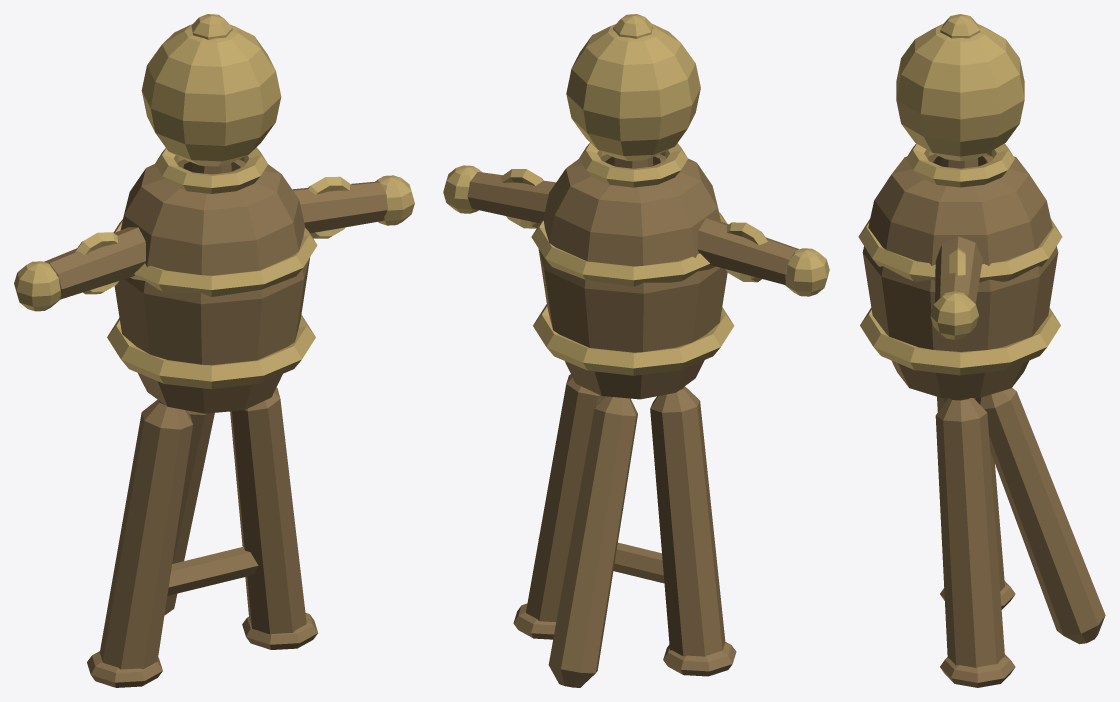
Rendered from training_dummy.obj.
The picture shows the model from 3 angles, left to right: view 1: azimuth 30°, elevation 25°; view 2: azimuth 150°, elevation 25°; view 3: azimuth 270°, elevation 25°; orthographic projection. The views are drawn at different scales.
Visible parts, largest first — view 1: torso, head, post_leg_L, post_leg_R, binding_waist, binding_chest, arm_L, arm_R, back_prop, binding_neck, cross_brace, arm_cap_L (+6 smaller); view 2: torso, post_leg_L, head, back_prop, post_leg_R, binding_waist, arm_L, binding_chest, arm_R, binding_neck, arm_cap_L, post_foot_L (+6 smaller); view 3: torso, post_leg_R, head, back_prop, binding_waist, binding_chest, binding_neck, arm_R, arm_cap_R, post_foot_R, post_leg_L, head_knot (+1 smaller).
Part boxes in pixels (x1,y1,x2,y2): torso: (114,159,309,413); head: (141,24,281,166); post_leg_L: (99,399,192,669); post_leg_R: (230,387,306,634); binding_waist: (107,315,315,389); binding_chest: (113,219,317,296); arm_L: (44,227,145,299); arm_R: (292,182,387,233); back_prop: (164,410,214,615); binding_neck: (155,147,267,193); cross_brace: (167,546,258,595); arm_cap_L: (14,261,61,311); torso: (538,154,727,399); post_leg_L: (650,386,725,656); head: (566,24,700,160); back_prop: (548,396,637,687); post_leg_R: (526,374,605,622); binding_waist: (533,304,734,375); arm_L: (697,218,798,284); binding_chest: (531,212,727,286); arm_R: (467,172,555,223); binding_neck: (579,142,688,187); arm_cap_L: (785,248,829,296); post_foot_L: (663,642,736,676); torso: (862,154,1058,397); post_leg_R: (935,398,1004,667); head: (896,23,1024,161); back_prop: (975,388,1105,644); binding_waist: (860,308,1060,375); binding_chest: (858,218,1062,282); binding_neck: (906,143,1014,187); arm_R: (935,236,982,303); arm_cap_R: (930,291,978,339); post_foot_R: (940,654,1015,687); post_leg_L: (937,396,1004,590); head_knot: (940,14,980,38).
Size of the model in its own units: 1.39 by 2.19 by 0.7793.
